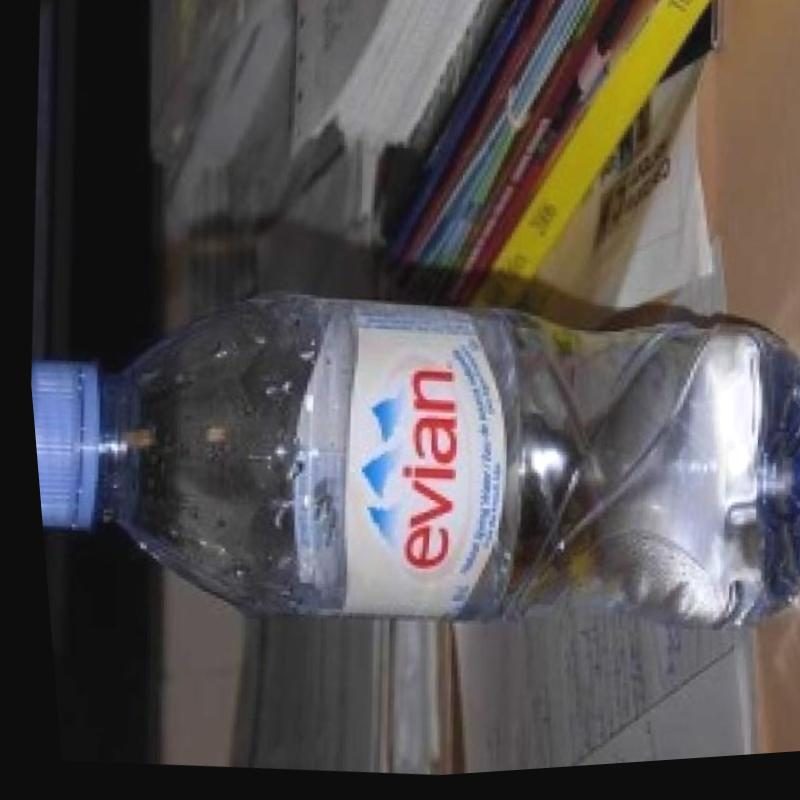botella: (18, 241, 800, 693)
